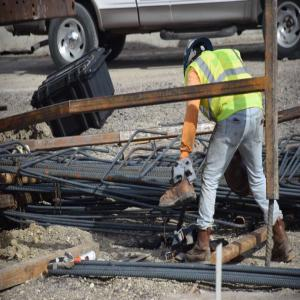blue: (184, 38, 212, 74)
